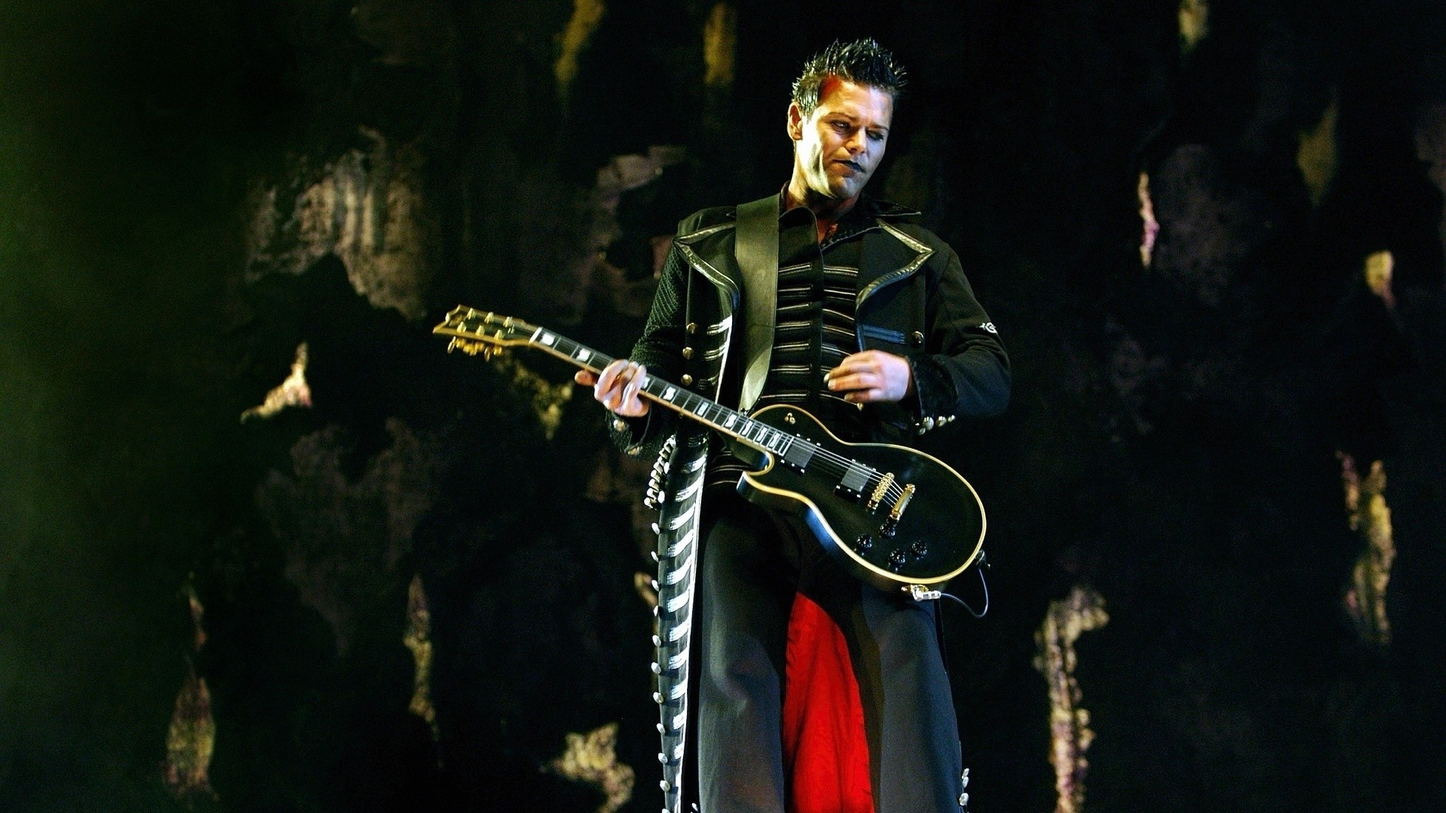acousticguitar: (431, 302, 991, 598)
